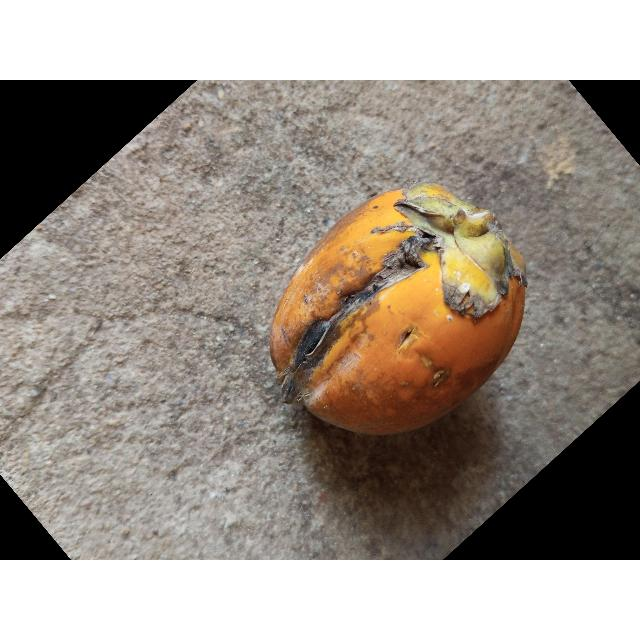damaged: (268, 184, 528, 438)
